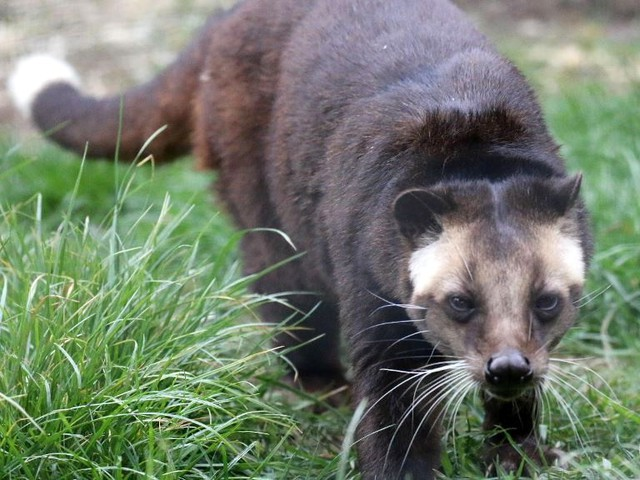civet: (30, 1, 597, 480)
